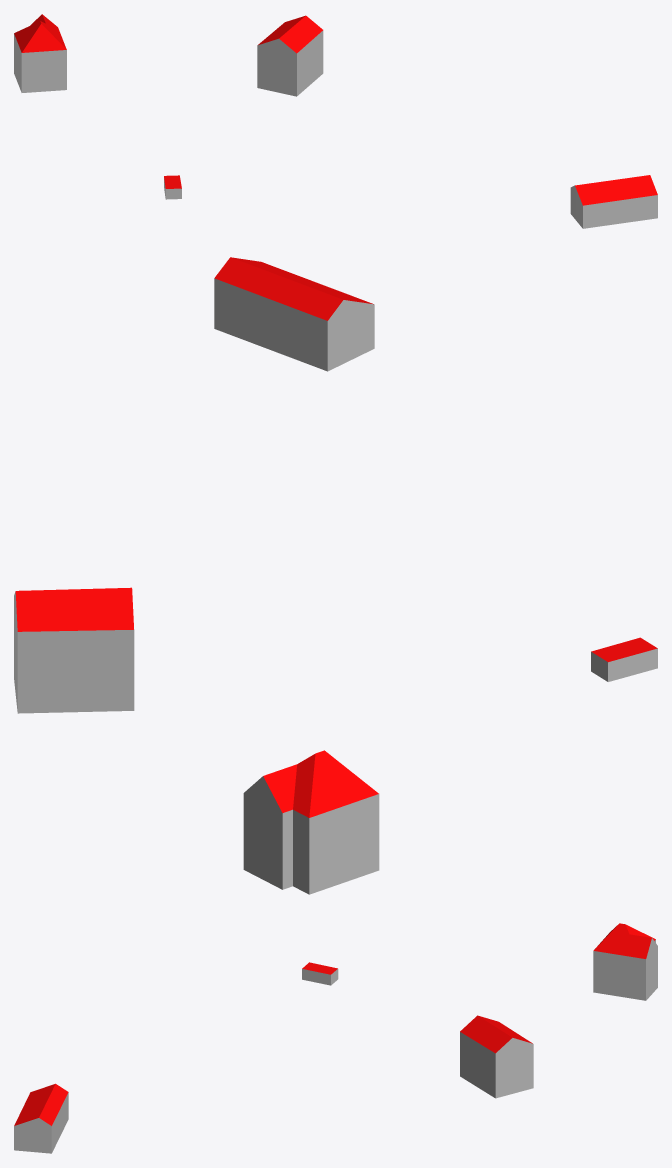
The picture shows the model from 3 angles, top to bottom: view 1: azimuth 30°, elevation 25°; view 2: azimuth 150°, elevation 25°; view 3: azimuth 270°, elevation 25°; orthographic projection. The views are drawn at different scales.
Size of the model in its own units: 75.86 by 12.27 by 114.
